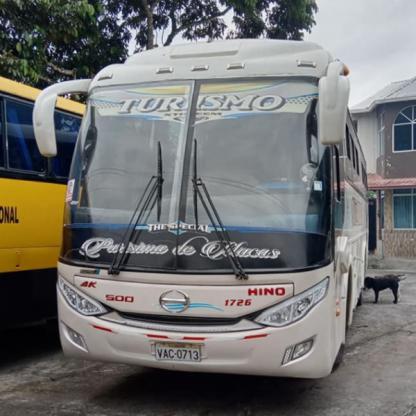Placa: (150, 338, 206, 367)
